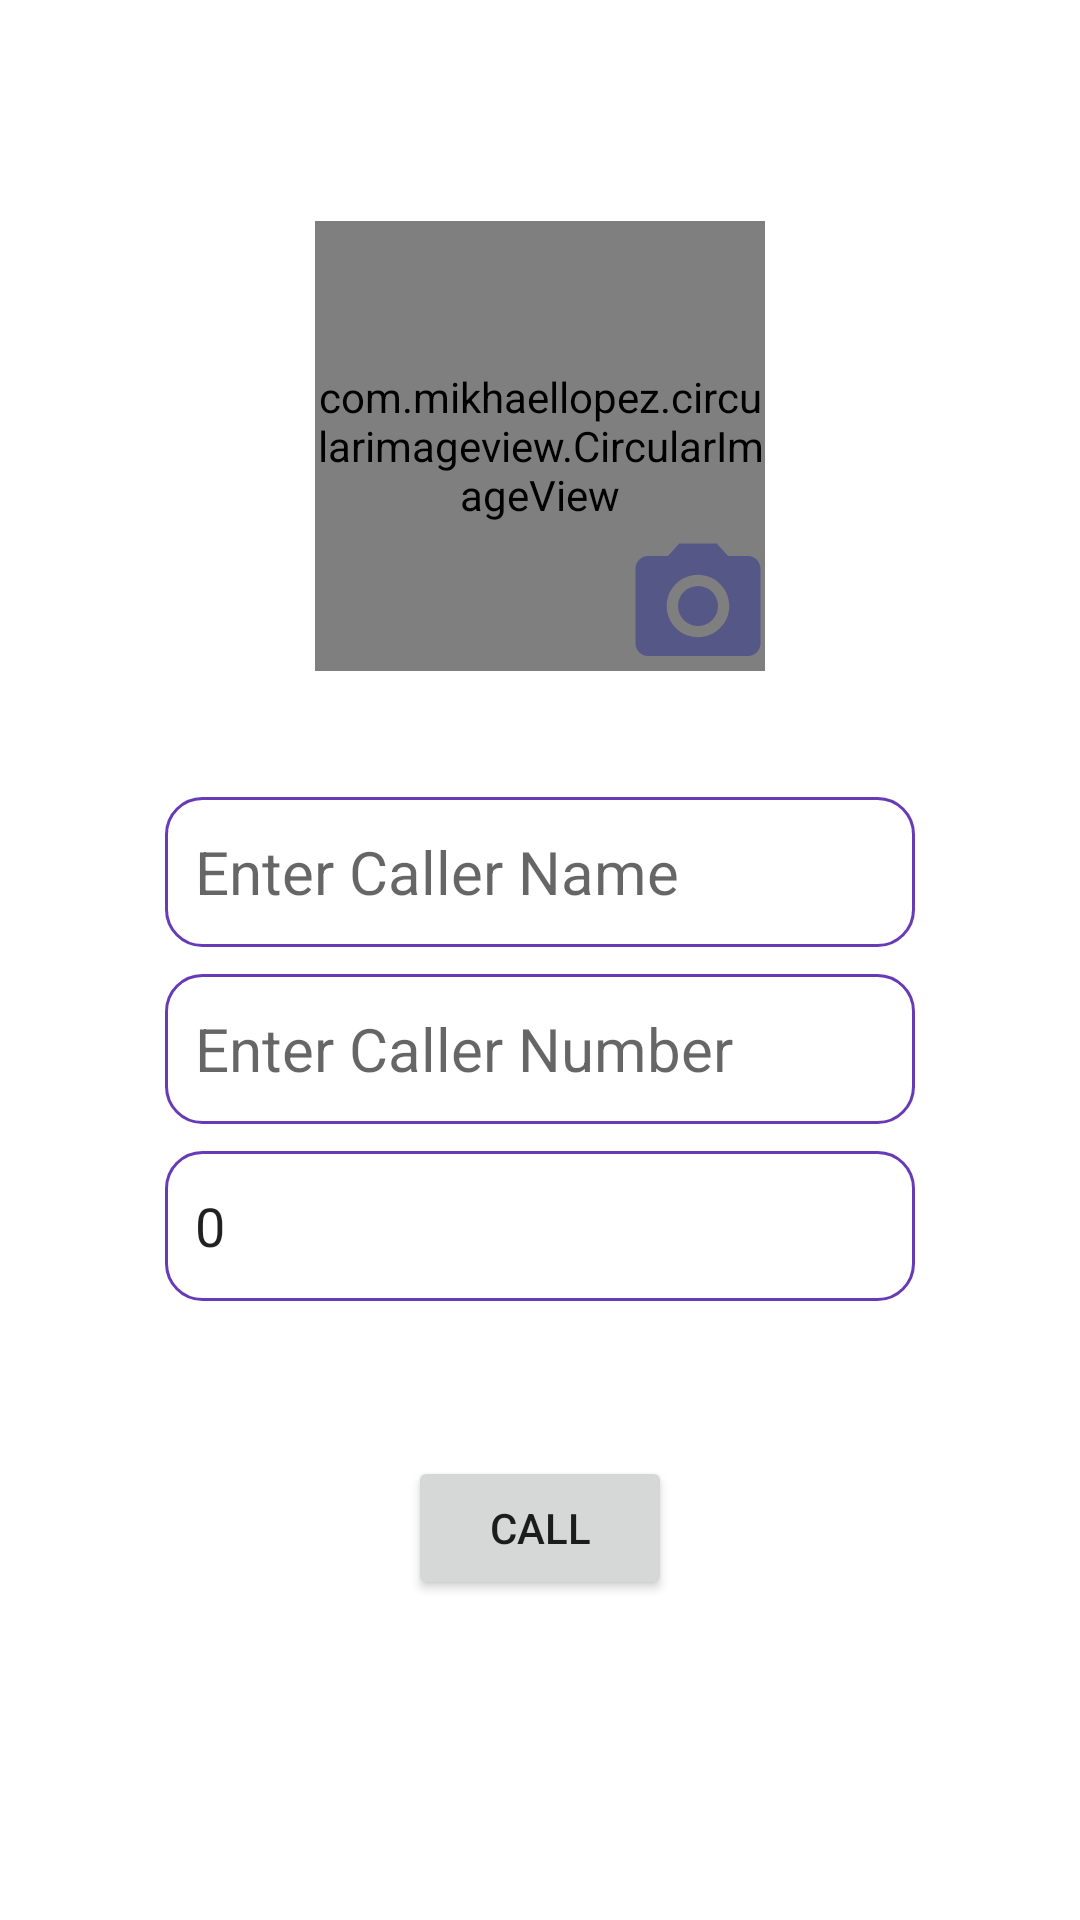

Point at icon controls on the screen. Image size 1080px×1920px, points as [x,y].
Choose Caller image from gallery: [698,606]
